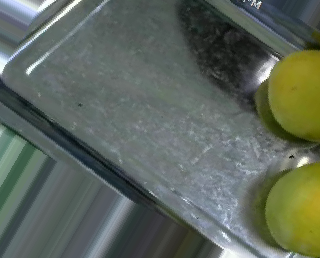Mango: (265, 163, 320, 257), (267, 51, 320, 142)
